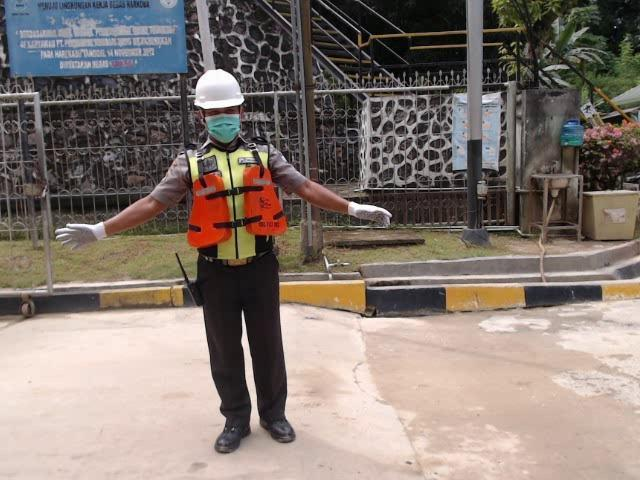vest: (184, 164, 285, 248)
